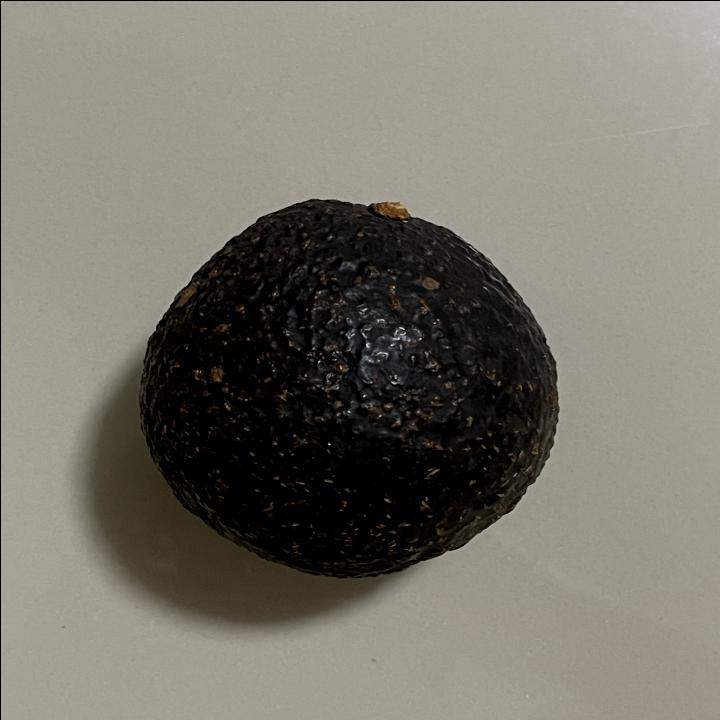Level2: (131, 193, 565, 580)
